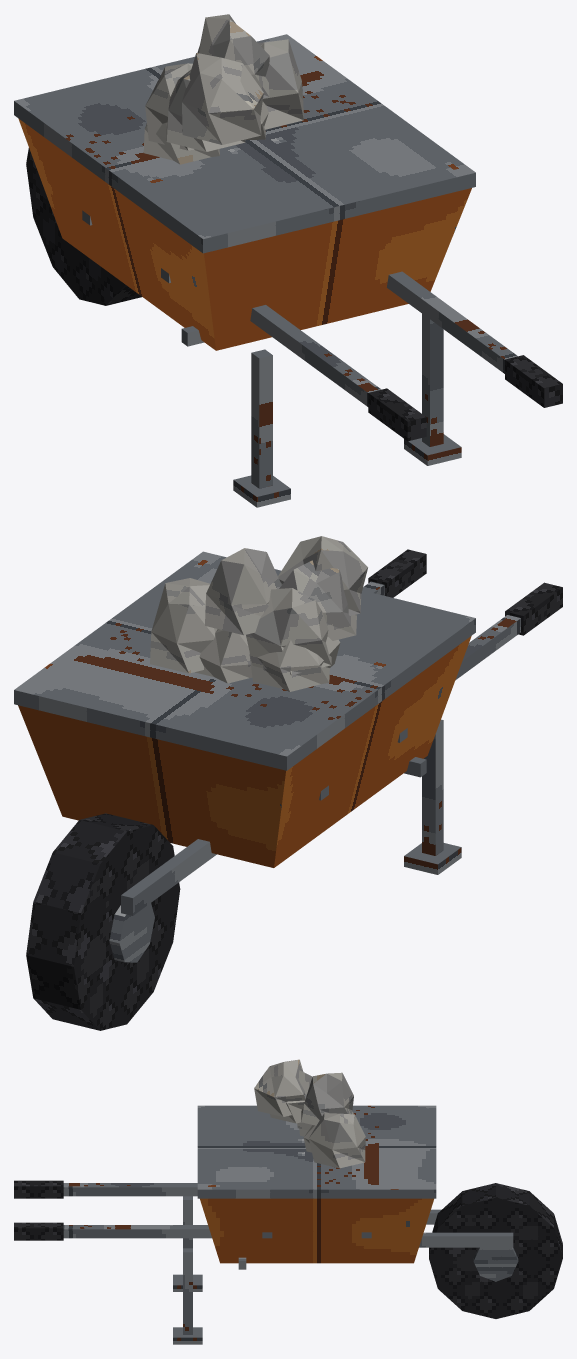
File: carts_and_props__reinforced_wheelbarrow.glb
The picture shows the model from 3 angles, top to bottom: view 1: azimuth 30°, elevation 25°; view 2: azimuth 150°, elevation 25°; view 3: azimuth 270°, elevation 25°; orthographic projection. The views are drawn at different scales.
Parts seen in each view (by area): view 1: _MeshInstance3D_369, _MeshInstance3D_368, _MeshInstance3D_372, _MeshInstance3D_370; view 2: _MeshInstance3D_369, _MeshInstance3D_368, _MeshInstance3D_370, _MeshInstance3D_372, _MeshInstance3D_371; view 3: _MeshInstance3D_369, _MeshInstance3D_368, _MeshInstance3D_370, _MeshInstance3D_372, _MeshInstance3D_371.
Part boxes in pixels (box(x1,y1,x2,y2)): _MeshInstance3D_369: box(14, 34, 517, 507); _MeshInstance3D_368: box(18, 118, 471, 350); _MeshInstance3D_372: box(143, 14, 303, 164); _MeshInstance3D_370: box(26, 148, 562, 441); _MeshInstance3D_369: box(14, 551, 520, 915); _MeshInstance3D_368: box(18, 636, 471, 867); _MeshInstance3D_370: box(26, 549, 562, 1030); _MeshInstance3D_372: box(150, 536, 367, 691); _MeshInstance3D_371: box(109, 903, 154, 962); _MeshInstance3D_369: box(63, 1105, 513, 1344); _MeshInstance3D_368: box(200, 1198, 433, 1263); _MeshInstance3D_370: box(14, 1180, 562, 1318); _MeshInstance3D_372: box(254, 1059, 365, 1168); _MeshInstance3D_371: box(473, 1247, 518, 1281).
Size of the model in its own units: 0.8 by 1.06 by 2.21.
Materials: 5 (5 with a texture image).
